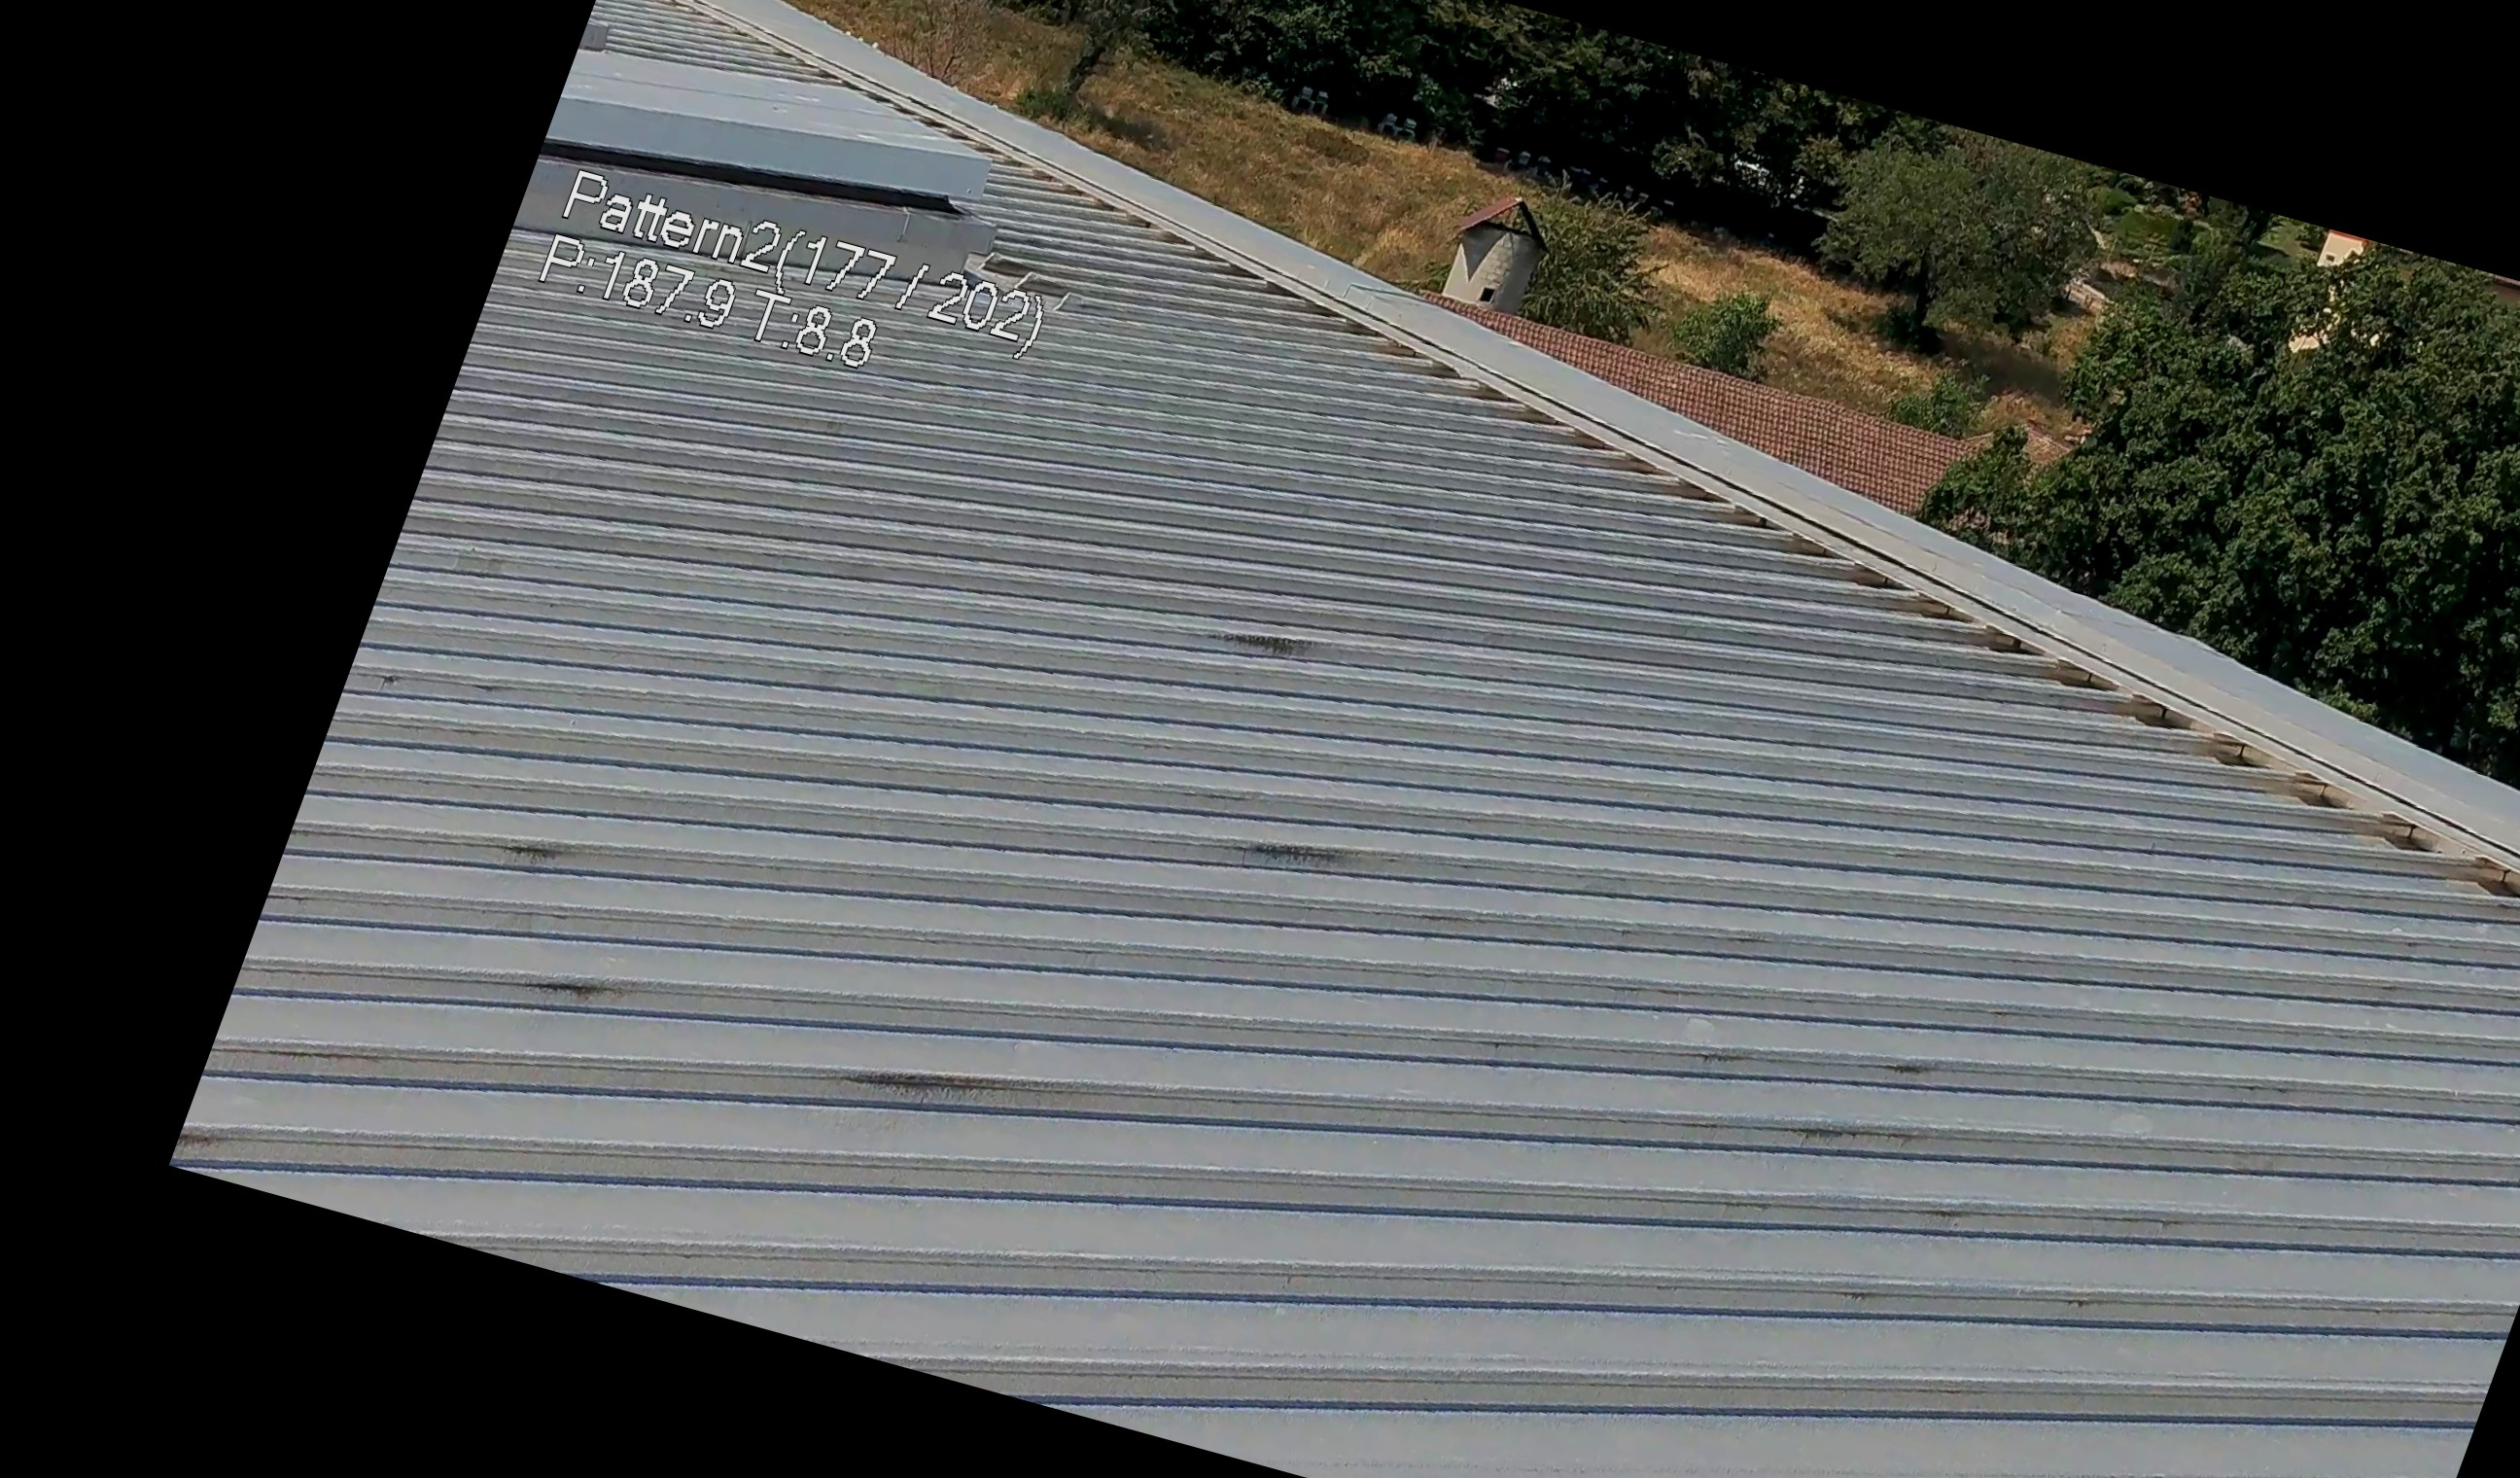Other: (1423, 172, 1577, 331)
